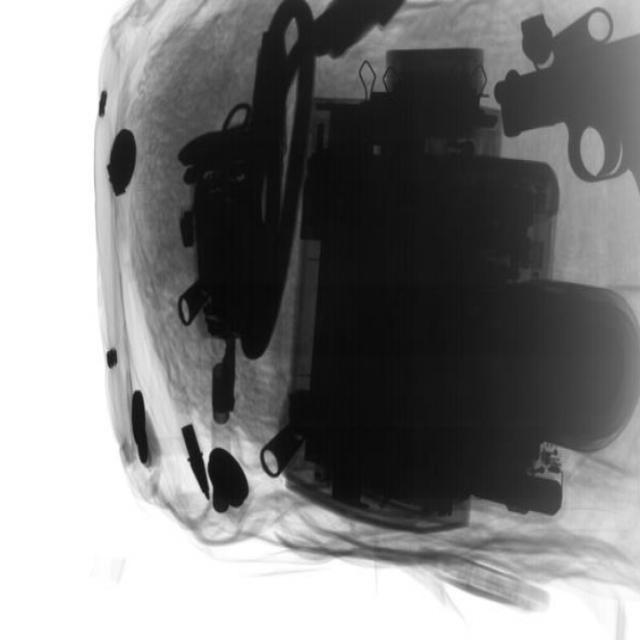GUN: (493, 9, 640, 253)
